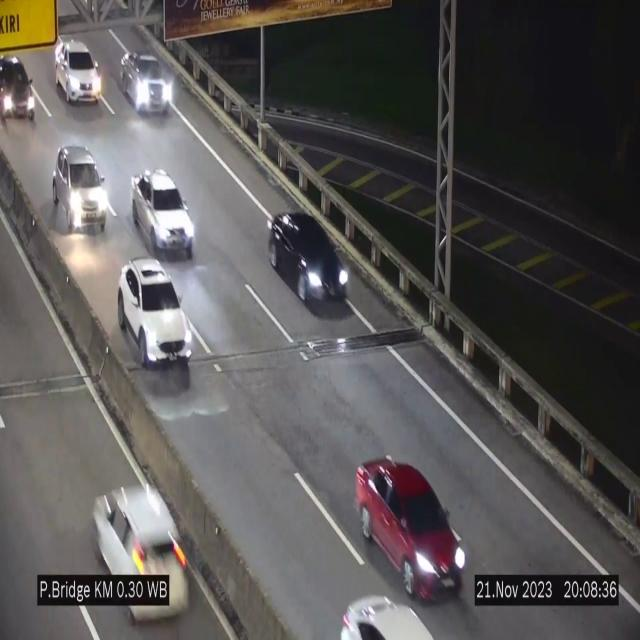Car: (85, 468, 197, 639), (354, 459, 468, 597), (266, 204, 348, 308), (119, 258, 193, 372), (325, 589, 439, 640), (132, 169, 194, 257), (53, 139, 109, 233), (117, 52, 173, 124), (0, 49, 44, 128), (55, 40, 103, 102)
